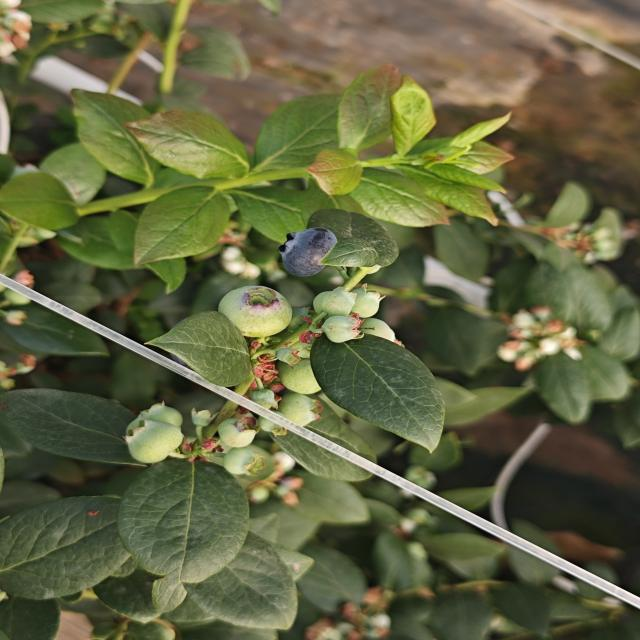ripe: (274, 226, 340, 280)
